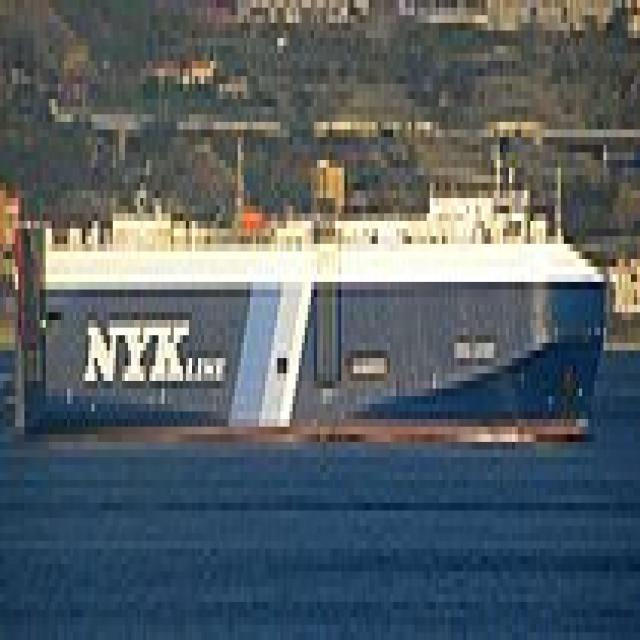Carrier: (12, 129, 607, 442)
